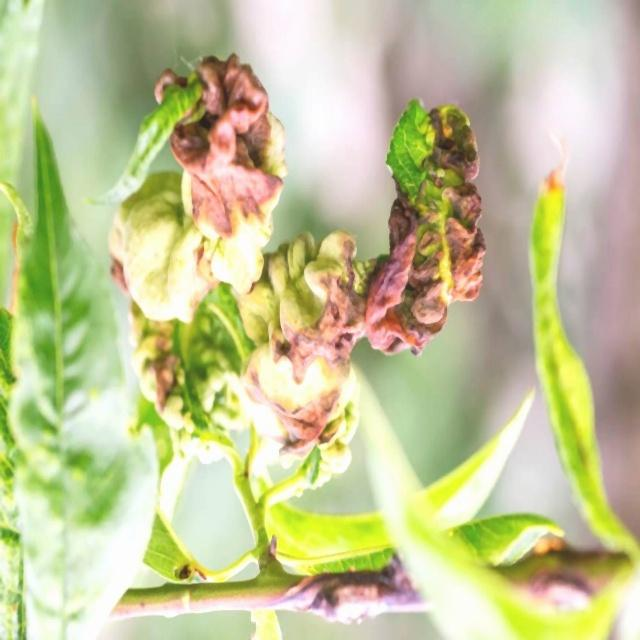leaf_curl: (305, 90, 535, 374), (97, 55, 313, 304)
